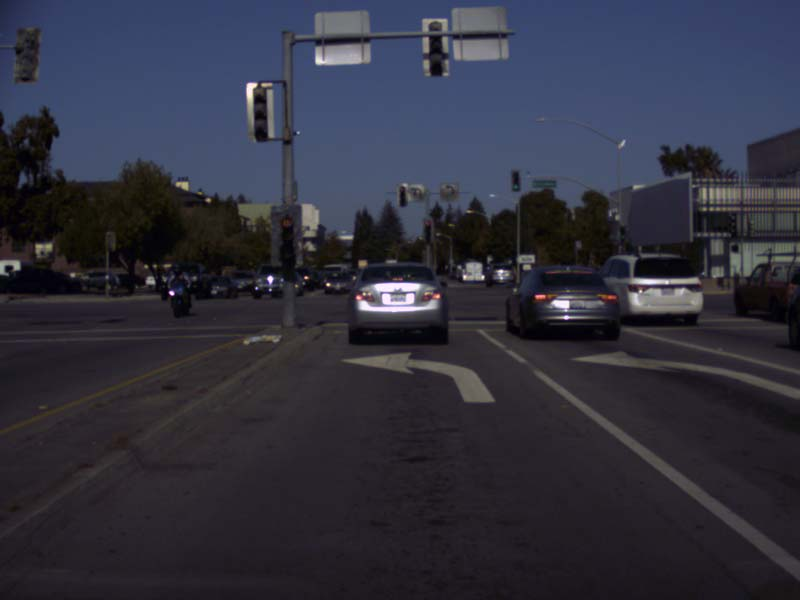Green: (510, 169, 520, 190), (620, 227, 625, 239)
Red: (270, 204, 301, 266), (423, 217, 433, 242), (396, 184, 407, 205)
